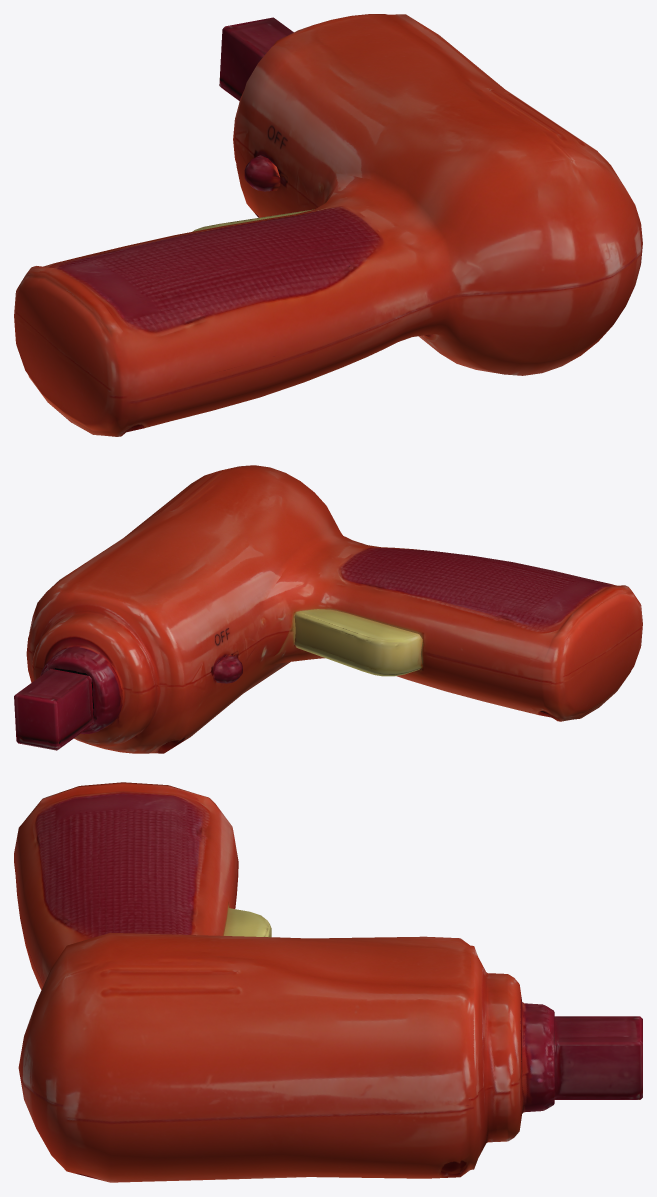
The model's file is 072-b_toy_airplane.dae.
3 renders of one model, top to bottom at view 1: azimuth 30°, elevation 25°; view 2: azimuth 150°, elevation 25°; view 3: azimuth 270°, elevation 25°, orthographic. The views are drawn at different scales.
Visible parts, largest first — view 1: 072-b_toy_airplane; view 2: 072-b_toy_airplane; view 3: 072-b_toy_airplane.
Boxes of the visible parts, box(x1,y1,x2,y2) form: 072-b_toy_airplane: box(14, 14, 642, 436); 072-b_toy_airplane: box(14, 465, 642, 753); 072-b_toy_airplane: box(14, 782, 642, 1182).
Size of the model in its own units: 0.1413 by 0.1403 by 0.0558.
1 material, 1 textured.
